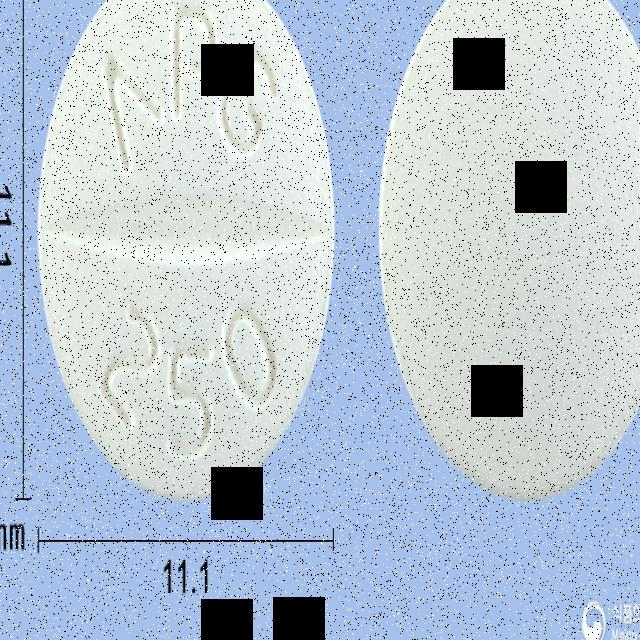Ciflo: (34, 0, 338, 507)
